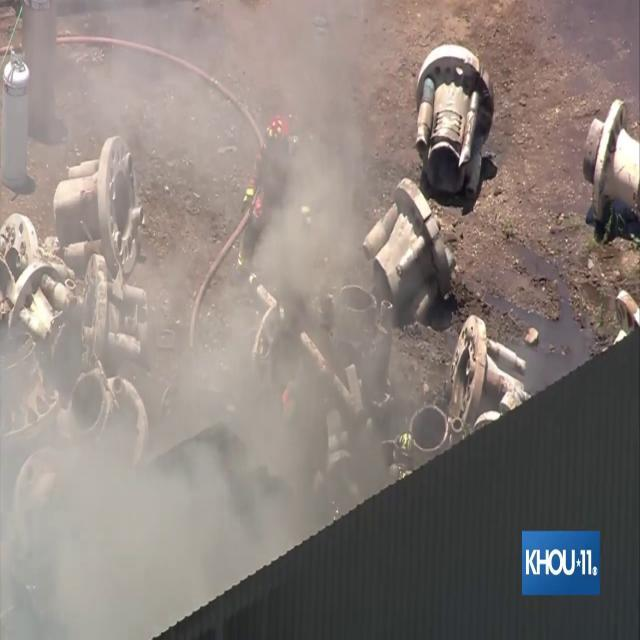Smoke: (2, 1, 404, 607)
